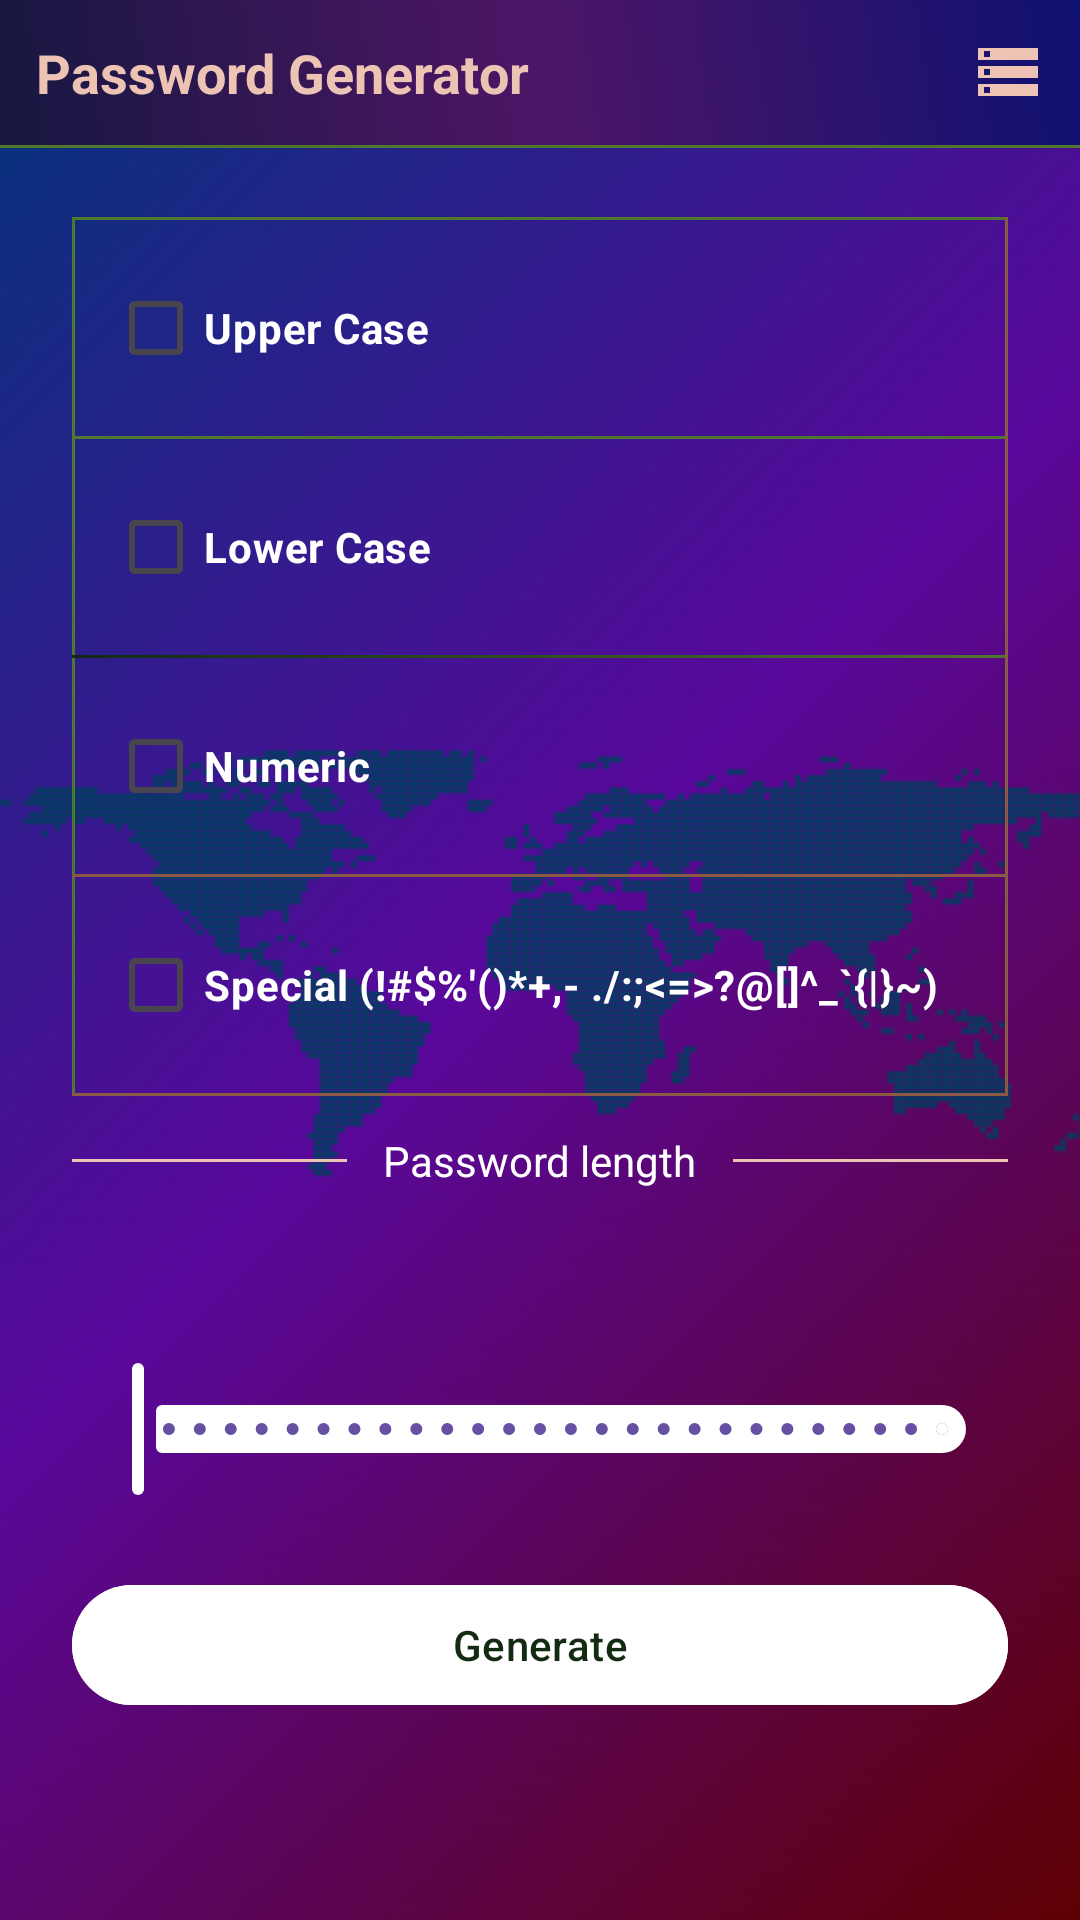

Named icons in this screenshot (1080x1920) and their bounding boxes, rect(x1, y1, x2, y2):
storage: rect(978, 48, 1038, 96)
